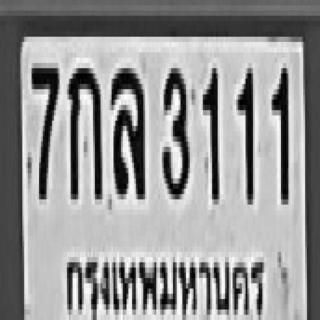A01: (67, 63, 100, 194)
A36: (110, 63, 143, 194)
N01: (270, 63, 287, 200), (201, 63, 218, 200), (236, 63, 251, 200)
N03: (160, 63, 188, 194)
N07: (30, 63, 58, 194)
P04: (61, 241, 266, 320)
